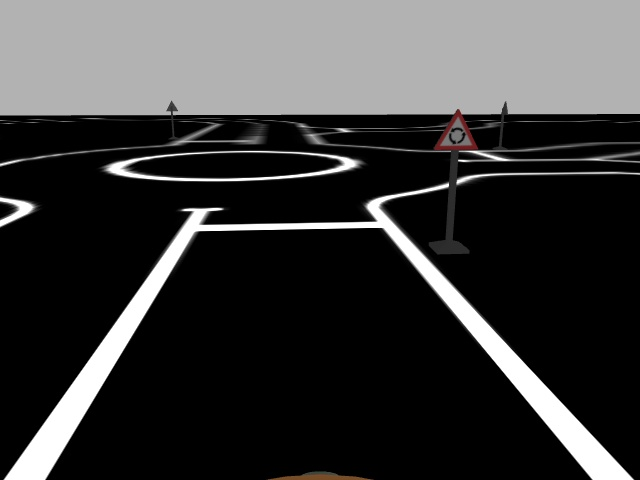roundabout: (433, 108, 479, 150)
